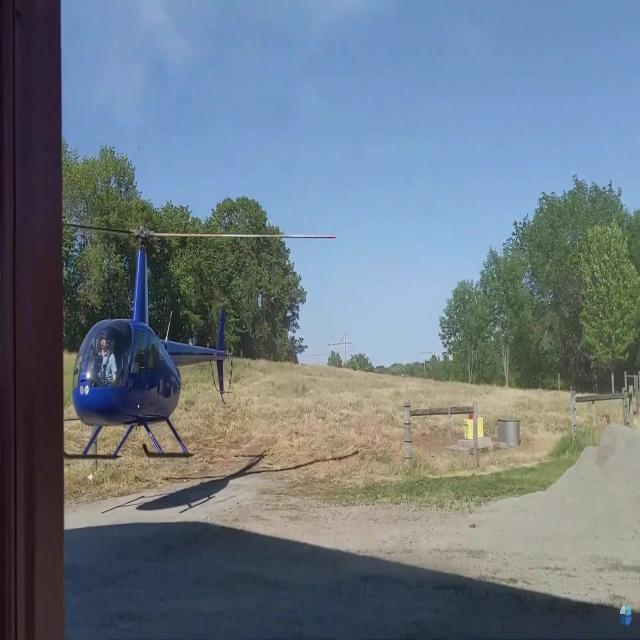CIV_HELO: (66, 225, 228, 464)
